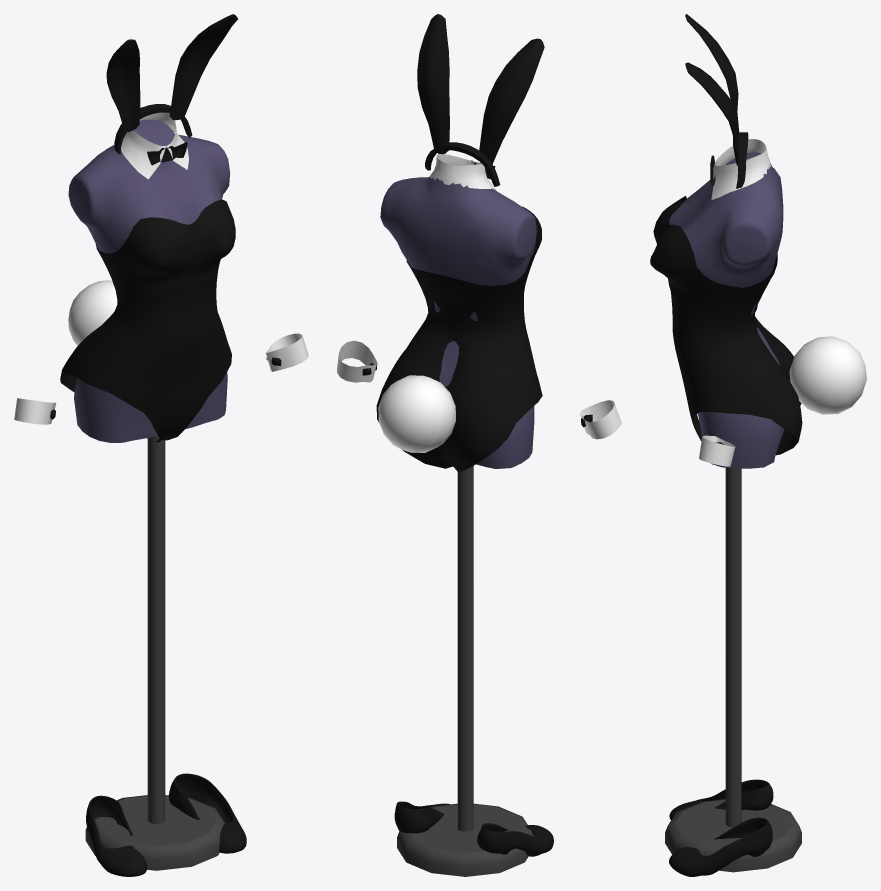
The model's file is Dress_6.fbx.
3 views of the same model, side by side, from view 1: azimuth 30°, elevation 25°; view 2: azimuth 150°, elevation 25°; view 3: azimuth 270°, elevation 25° (orthographic). The views are drawn at different scales.
Visible parts, largest first — view 1: dummy_1, dress_5, dress_5_ears, shoes_5, dress_5_bow|_tie, dress_5_sleeves; view 2: dummy_1, dress_5, dress_5_ears, shoes_5, dress_5_sleeves, dress_5_bow|_tie; view 3: dummy_1, dress_5, shoes_5, dress_5_ears, dress_5_bow|_tie, dress_5_sleeves.
Part boxes in pixels (x1,y1,x2,y2): dummy_1: (68,119,230,870); dress_5: (60,199,235,442); dress_5_ears: (106,14,237,154); shoes_5: (86,773,246,876); dress_5_bow|_tie: (121,112,188,179); dress_5_sleeves: (14,333,308,424); dummy_1: (380,177,536,876); dress_5: (376,206,542,472); dress_5_ears: (417,14,544,186); shoes_5: (394,801,553,856); dress_5_sleeves: (337,340,621,439); dress_5_bow|_tie: (429,154,496,190); dummy_1: (665,152,801,872); dress_5: (650,196,866,455); shoes_5: (669,779,773,876); dress_5_ears: (685,14,748,188); dress_5_bow|_tie: (710,139,770,199); dress_5_sleeves: (699,435,735,466).
Size of the model in its own units: 0.7113 by 1.96 by 0.4771.
